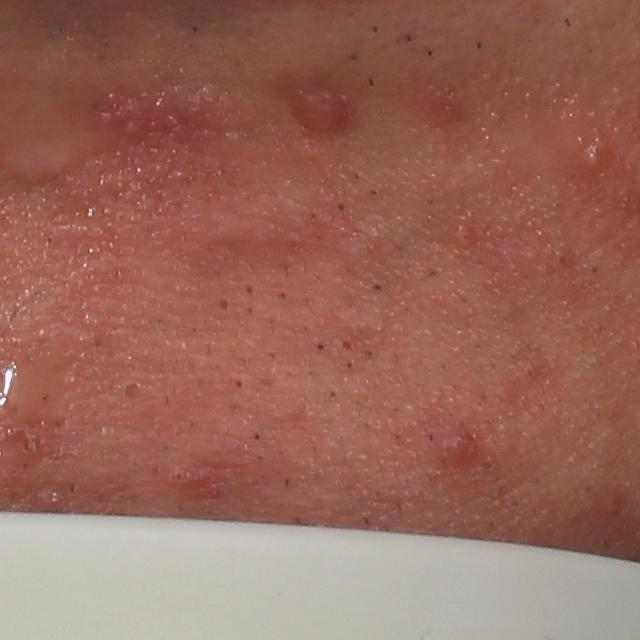comedo: (117, 376, 149, 407), (213, 295, 235, 315), (227, 373, 247, 391), (250, 432, 263, 446), (342, 338, 354, 352)
papule: (167, 450, 243, 514), (291, 79, 350, 142), (425, 418, 490, 473), (571, 130, 630, 177)
